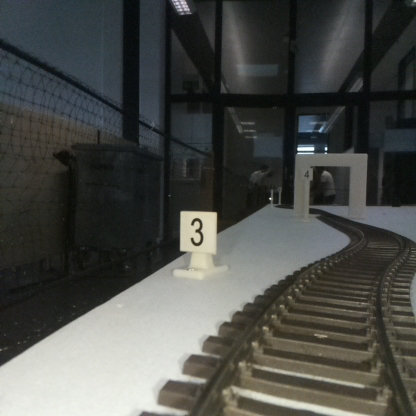white-info-4: (301, 167, 312, 220)
white-stop-3: (180, 212, 216, 274)
